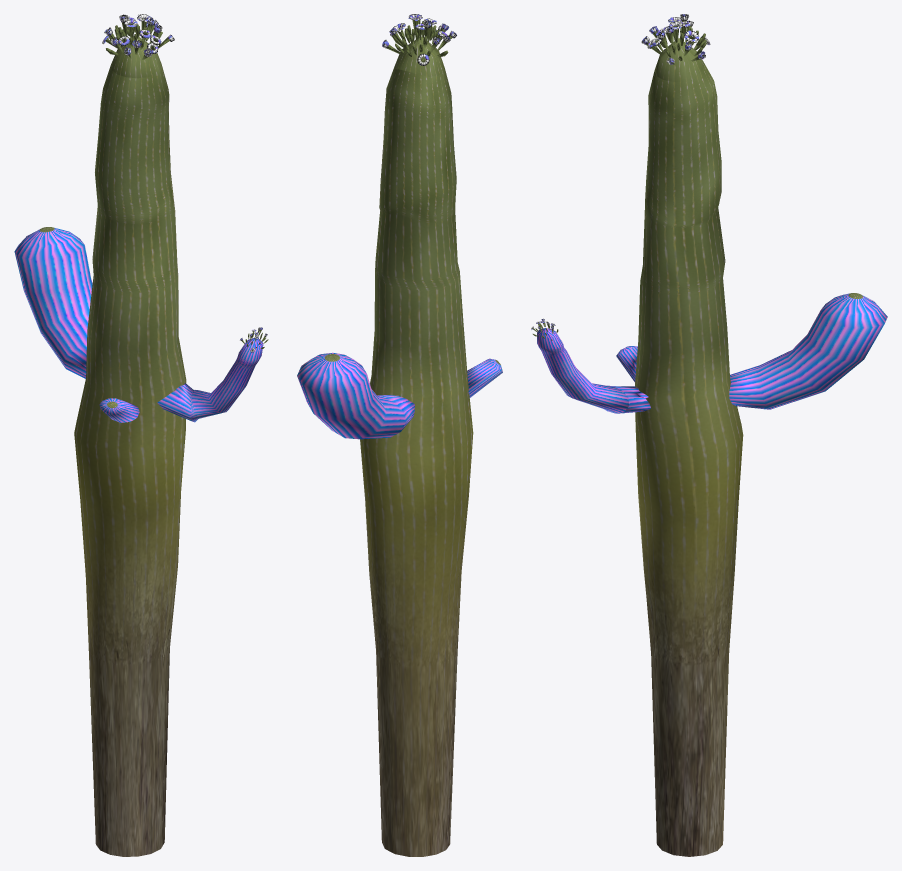
Rendered from cacti2.obj.
3 views of the same model, side by side, from view 1: azimuth 30°, elevation 25°; view 2: azimuth 150°, elevation 25°; view 3: azimuth 270°, elevation 25° (orthographic).
Parts seen in each view (by area): view 1: cacti2; view 2: cacti2; view 3: cacti2.
Boxes of the visible parts, <box> form: cacti2: <box>14,14,268,856</box>; cacti2: <box>297,14,502,856</box>; cacti2: <box>531,14,887,856</box>.
Bounding box in the file's own units: 0.6795 × 4.32 × 1.7.
6 materials, 6 textured.
